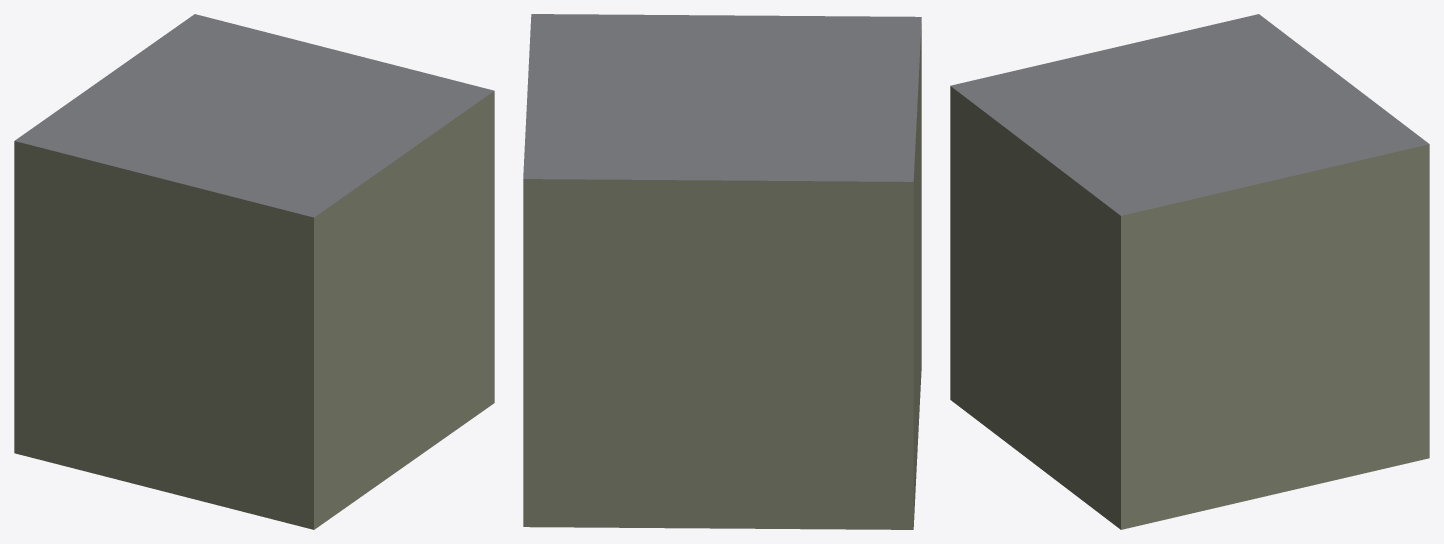
File: nyc-1034214-0.glb
3 views of the same model, side by side, from view 1: azimuth 30°, elevation 25°; view 2: azimuth 150°, elevation 25°; view 3: azimuth 270°, elevation 25° (orthographic). The views are drawn at different scales.
Parts seen in each view (by area): view 1: nyc-1034214-0; view 2: nyc-1034214-0; view 3: nyc-1034214-0.
Boxes of the visible parts, left/top/right/bottom form: nyc-1034214-0: left=14, top=14, right=494, bottom=529; nyc-1034214-0: left=523, top=14, right=921, bottom=529; nyc-1034214-0: left=950, top=14, right=1429, bottom=529.
Size of the model in its own units: 41.41 by 30.02 by 41.55.
